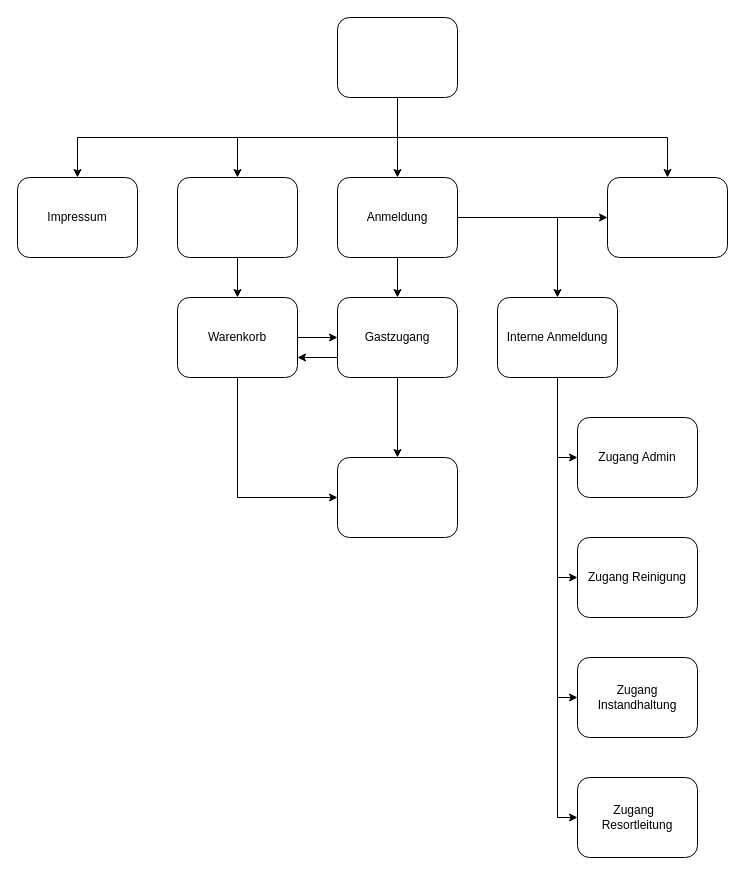
Some shapes in this 745 by 875 pixel diagram are drawn without their labels. Here are the shapes that lost their labels. From the top down, the centre of each, then its label:
At point (397, 57): "Startseite".
At point (237, 217): "Buchungsauswahl".
At point (667, 217): "Registrierung".
At point (397, 497): "Bestellung aufgegeben".
